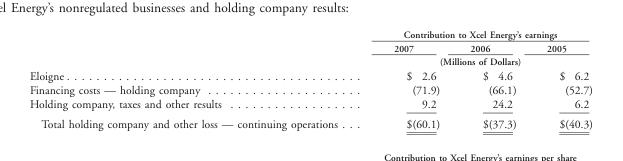table: (28, 28, 592, 129)
table column: (28, 28, 365, 129), (365, 28, 454, 129), (454, 28, 530, 129), (530, 28, 592, 129)
table column header: (28, 28, 592, 67)
table row: (28, 96, 592, 113), (28, 113, 592, 129), (28, 67, 592, 82), (28, 82, 592, 96), (28, 28, 592, 41), (28, 41, 592, 54), (28, 54, 592, 67)
table spanning cell: (365, 28, 592, 41), (365, 54, 592, 67)
